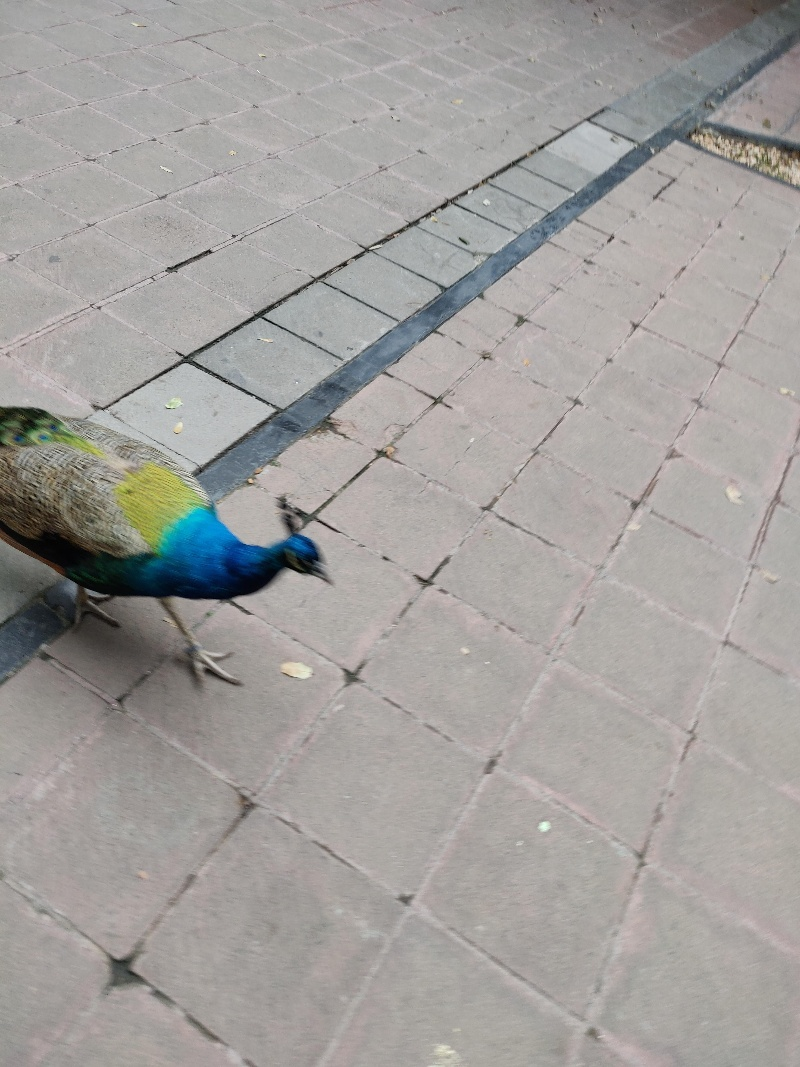pavoreal: (1, 405, 329, 675)
